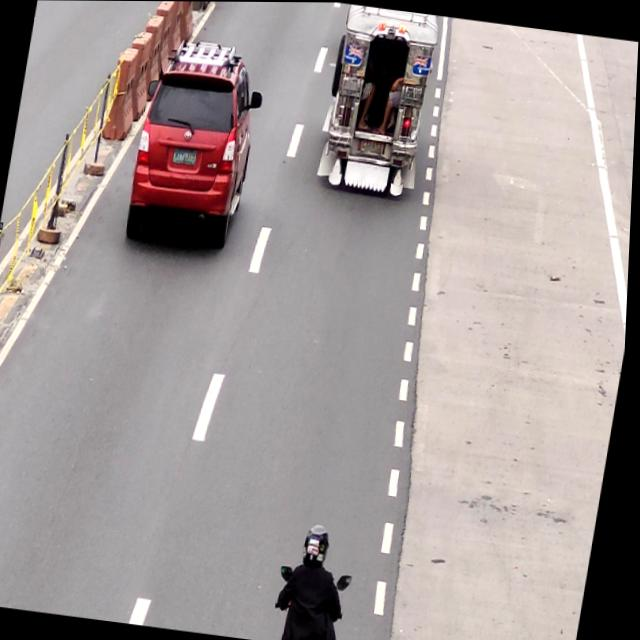Car: (121, 35, 268, 252)
Jeep: (312, 2, 441, 204)
License-Plate: (172, 146, 200, 165), (359, 137, 387, 156)
Motorcycle: (270, 519, 366, 640)
